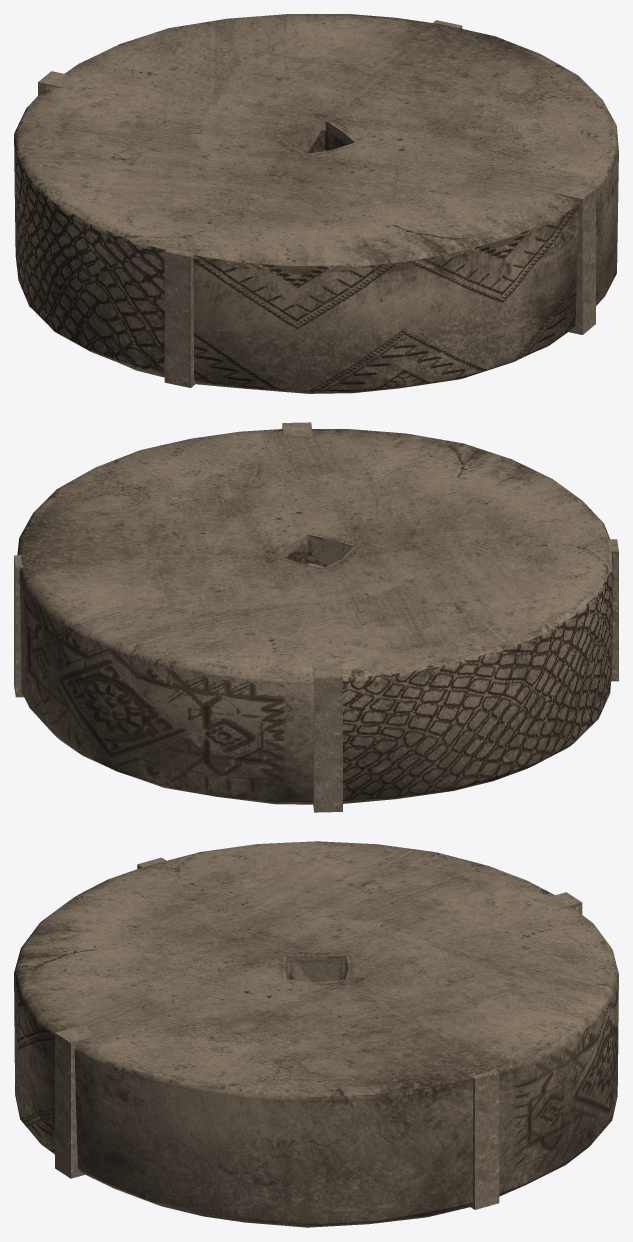
Rendered from mdl_franch_snake_cylinder.gltf.
The picture shows the model from 3 angles, top to bottom: view 1: azimuth 30°, elevation 25°; view 2: azimuth 150°, elevation 25°; view 3: azimuth 270°, elevation 25°; orthographic projection.
Visible parts, largest first — view 1: Lp_Normal_Map_0, Cube.001; view 2: Lp_Normal_Map_0, Cube.001; view 3: Lp_Normal_Map_0, Cube.001.
Part boxes in pixels (x1=…): Lp_Normal_Map_0: x1=14, y1=14, x2=618, y2=393; Cube.001: x1=38, y1=20, x2=595, y2=387; Lp_Normal_Map_0: x1=17, y1=429, x2=613, y2=804; Cube.001: x1=14, y1=422, x2=618, y2=812; Lp_Normal_Map_0: x1=14, y1=841, x2=618, y2=1227; Cube.001: x1=55, y1=857, x2=582, y2=1209.
Size of the model in its own units: 59.89 by 15 by 59.71.
2 materials, 2 textured.
